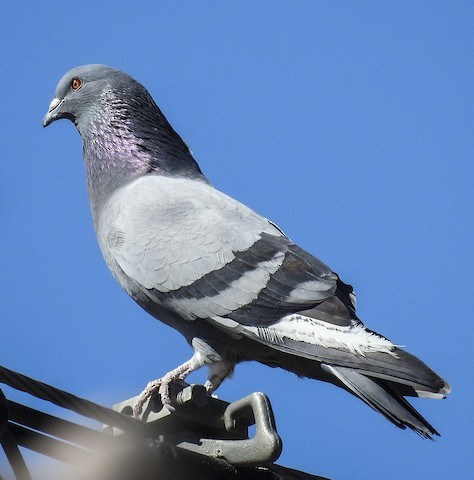pigeon: (36, 56, 454, 451)
